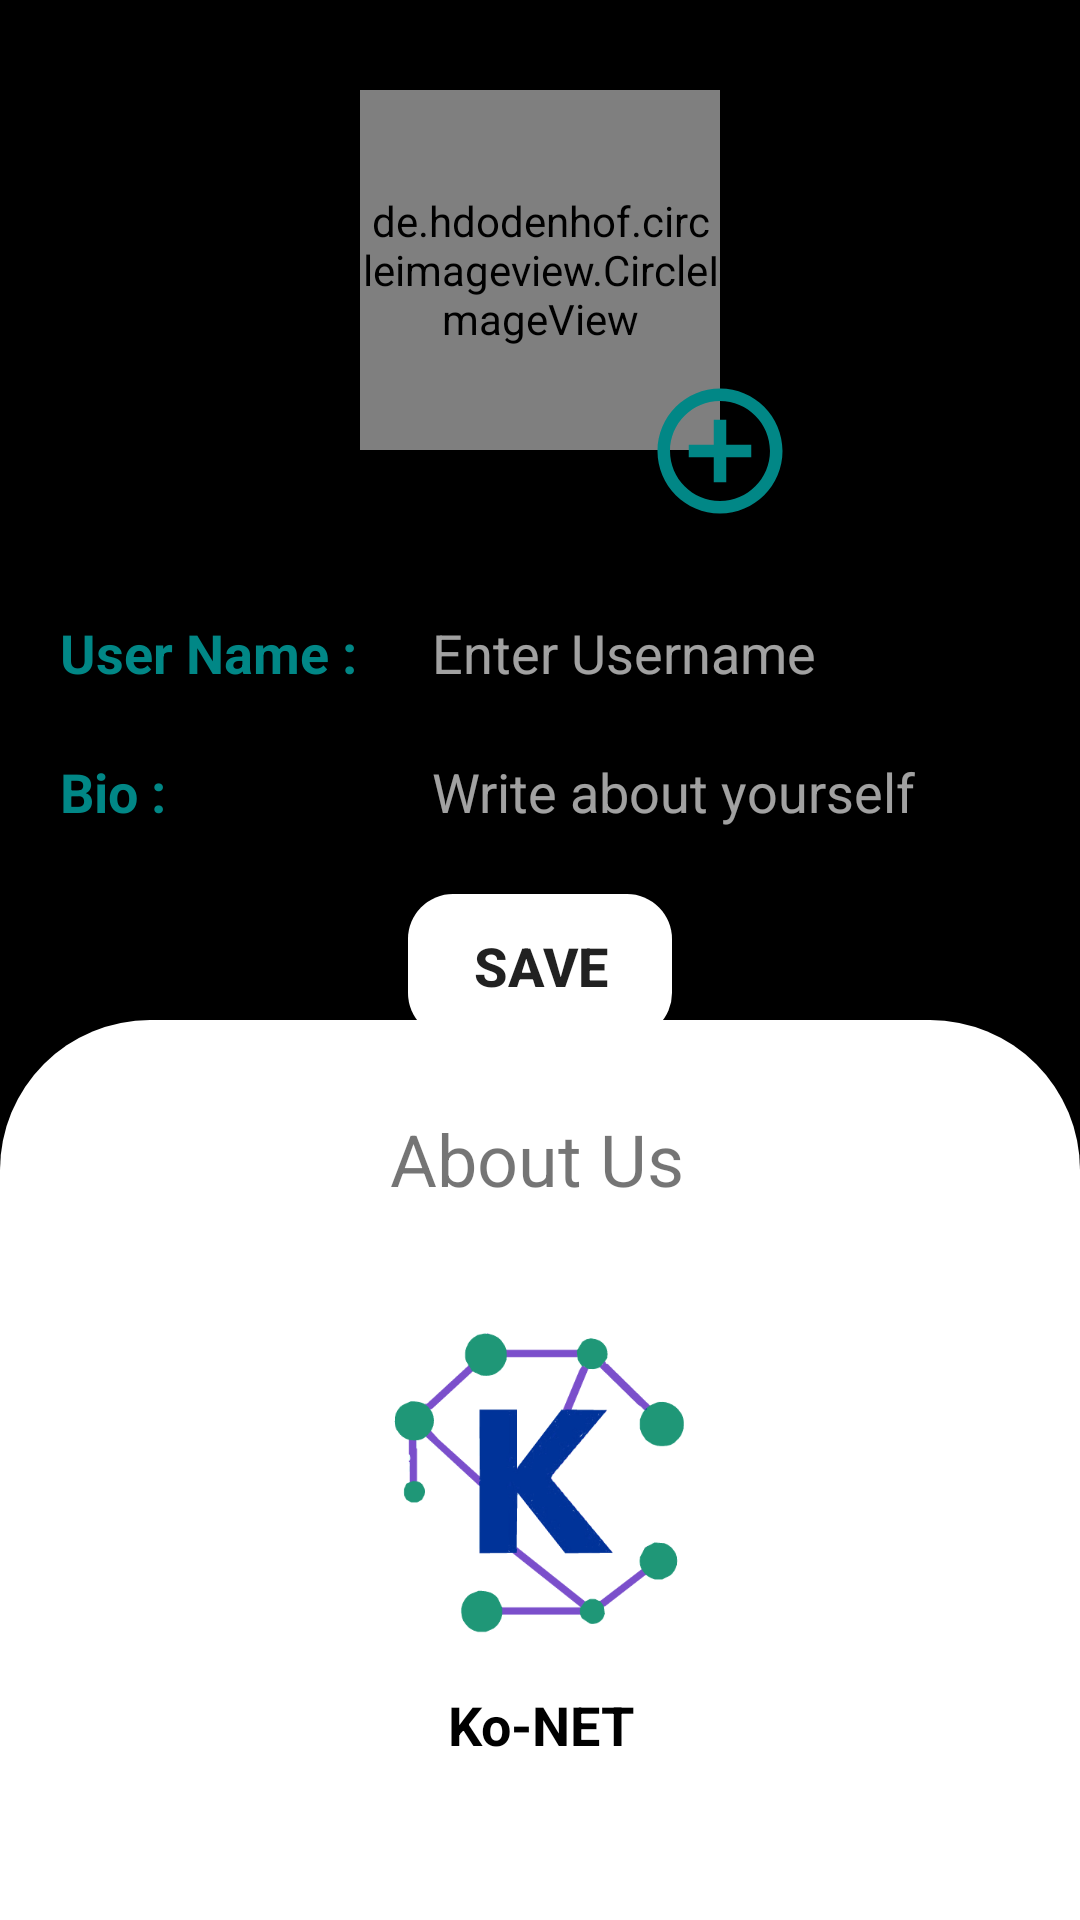

Named icons in this screenshot (1080 x 1920) and their bounding boxes, (x1, y1, x2, y2):
add: (645, 376, 783, 514)
